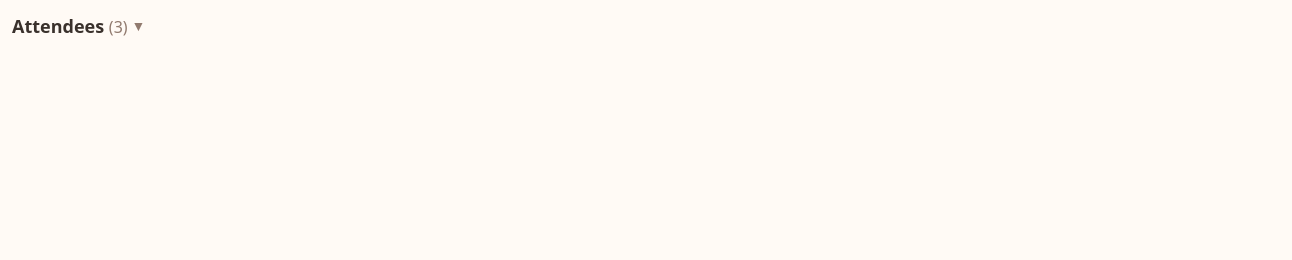
Test: EventAttendeesTable › toggles open state when header is clicked
The width and height of the screenshot is (1292, 260).
Click the button "Attendees (3) ▼". click: [79, 26]
box: [12,12,146,40]
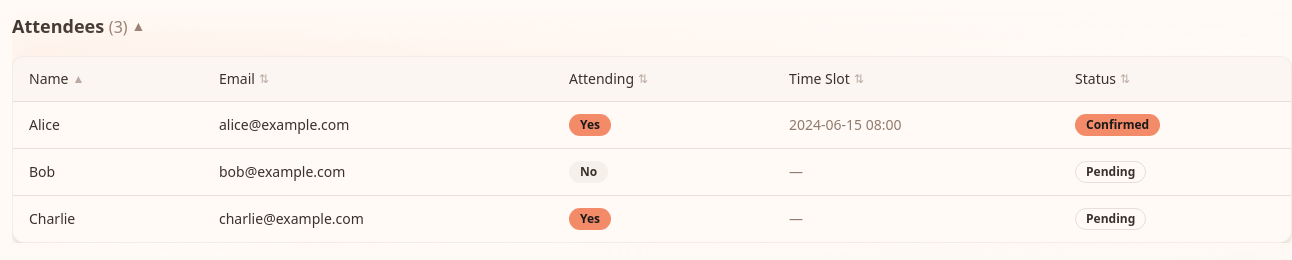
Now the button "Attendees (3) ▲" is shown
Click the button "Attendees (3) ▲". click: [79, 26]
box: [12,12,146,40]
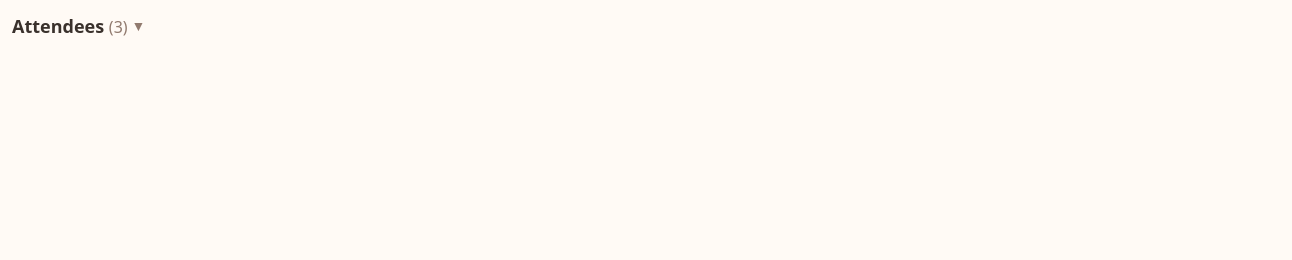
Now the button "Attendees (3) ▼" is shown, box [12,12,146,40]
